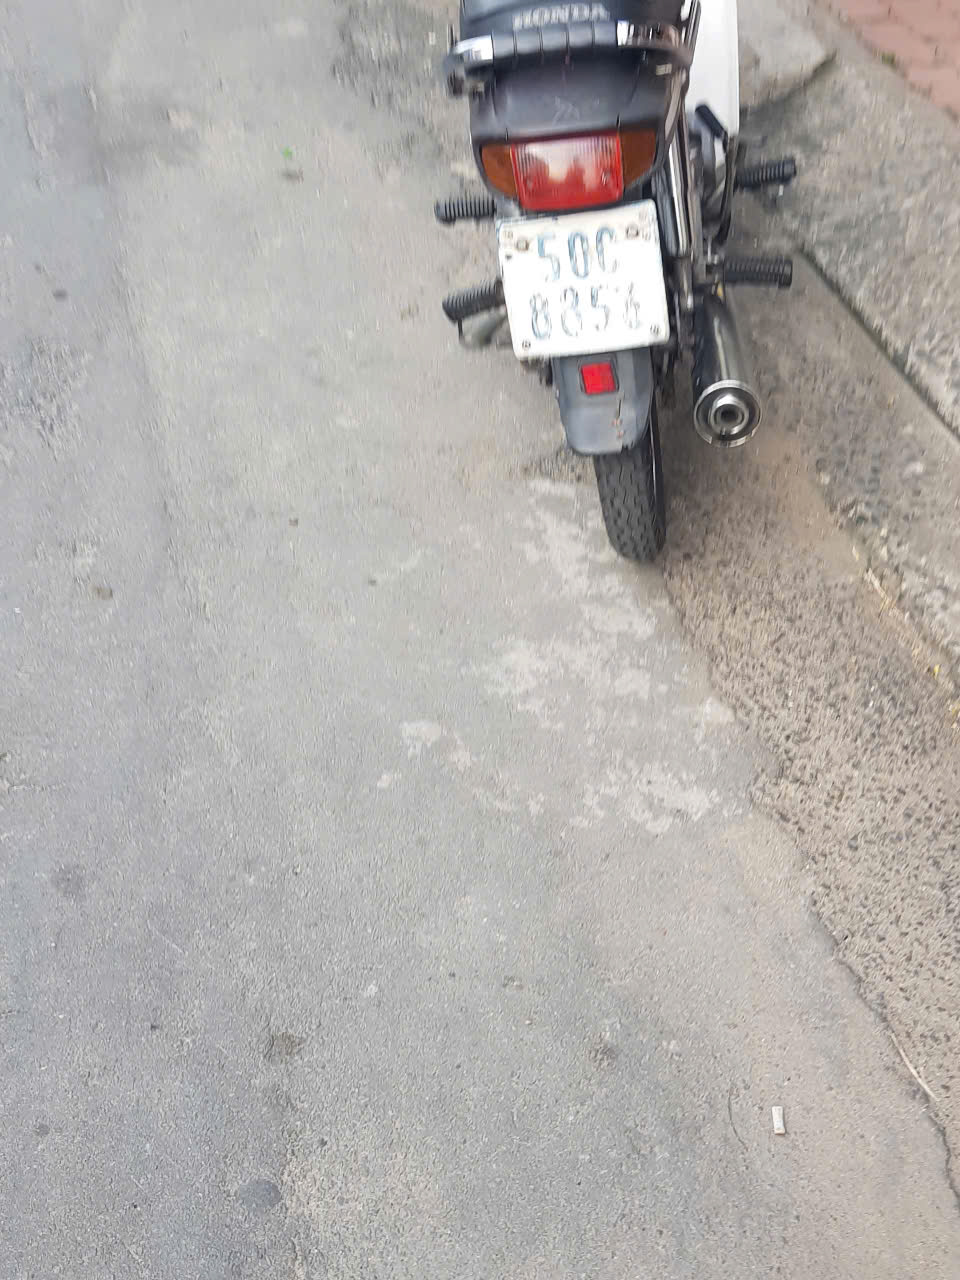bien_so: (501, 204, 669, 360)
